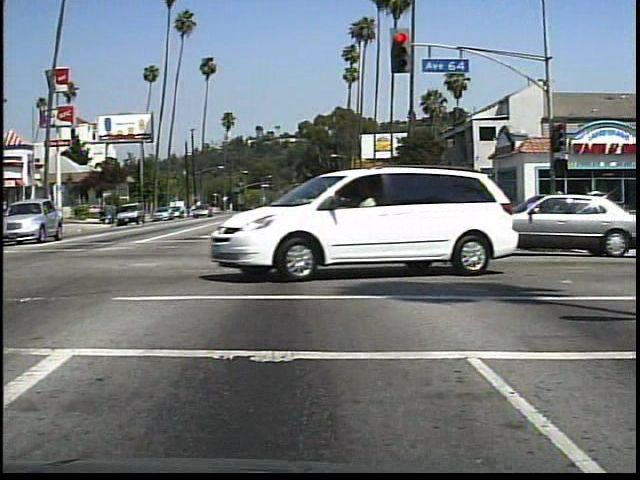person: (545, 187, 572, 237)
